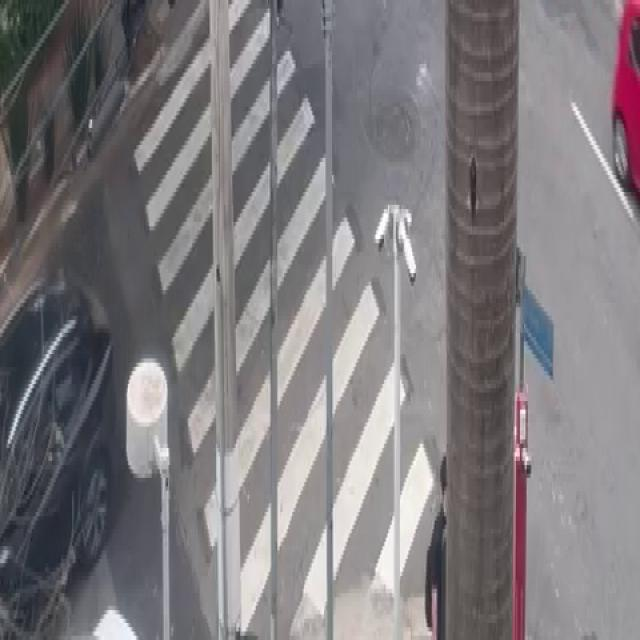car: (7, 260, 108, 640), (612, 4, 640, 205)
